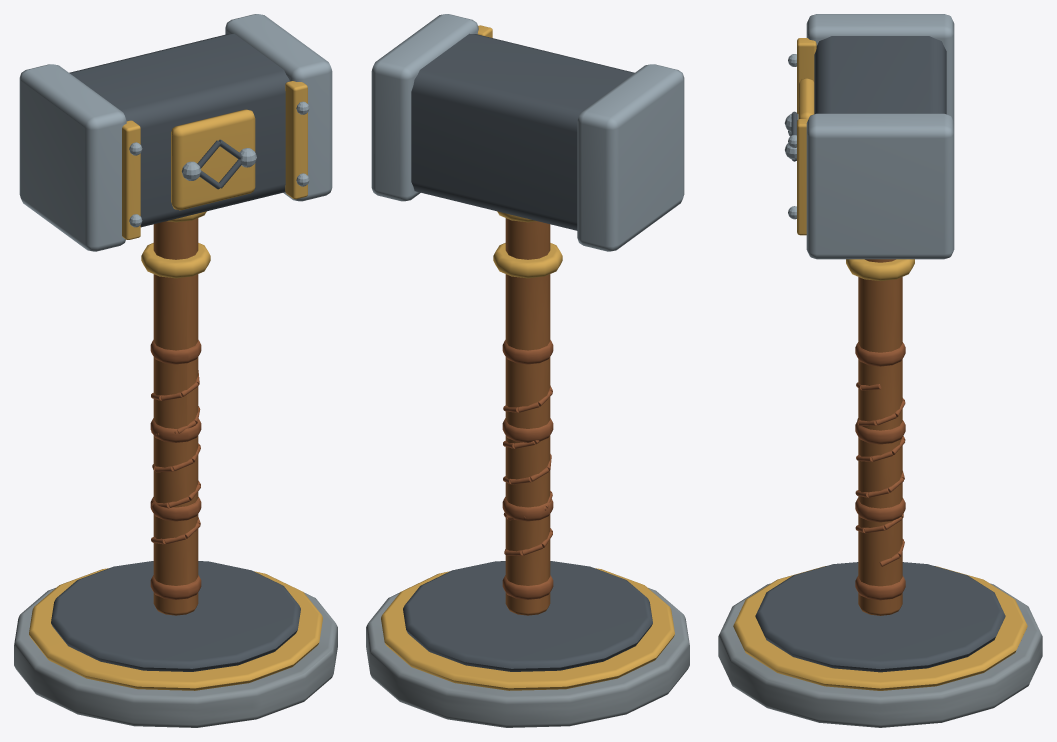
The model's file is bron-hammer.glb.
3 renders of one model, left to right at view 1: azimuth 30°, elevation 25°; view 2: azimuth 150°, elevation 25°; view 3: azimuth 270°, elevation 25°, orthographic.
Visible parts, largest first — view 1: Display / raised inset.002, Hammer / forged striking head, Hammer / steel striking face, Display / stone base.002, Grip / central shaft.001, Display / bronze rim.002, Hammer / steel striking face.001, Hammer / bronze face plate, Hammer / bronze securing strap.001, Hammer / bronze securing strap, Binding / collar.011, Binding / collar.007 (+3 smaller); view 2: Hammer / forged striking head, Display / raised inset.002, Hammer / steel striking face, Display / stone base.002, Grip / central shaft.001, Hammer / steel striking face.001, Display / bronze rim.002, Binding / collar.011, Binding / collar.007, Binding / collar.010, Binding / collar.009, Binding / collar.008; view 3: Hammer / steel striking face.001, Display / raised inset.002, Display / stone base.002, Grip / central shaft.001, Hammer / forged striking head, Display / bronze rim.002, Hammer / steel striking face, Binding / collar.011, Hammer / bronze securing strap.001, Hammer / bronze securing strap, Binding / collar.007, Binding / collar.010 (+3 smaller).
Boxes of the visible parts, x1,y1,x2,y2 form: Display / raised inset.002: (51,561,300,671); Hammer / forged striking head: (69,33,289,227); Hammer / steel striking face: (19,64,126,251); Display / stone base.002: (14,588,337,727); Grip / central shaft.001: (153,218,198,615); Display / bronze rim.002: (29,568,322,690); Hammer / steel striking face.001: (225,14,332,201); Hammer / bronze face plate: (171,109,255,210); Hammer / bronze securing strap.001: (285,81,307,199); Hammer / bronze securing strap: (122,120,140,239); Binding / collar.011: (141,243,210,278); Binding / collar.007: (150,575,201,599); Hammer / forged striking head: (411,33,634,230); Display / raised inset.002: (403,561,652,671); Hammer / steel striking face: (577,64,684,251); Display / stone base.002: (366,588,689,727); Grip / central shaft.001: (505,218,550,615); Hammer / steel striking face.001: (371,14,478,201); Display / bronze rim.002: (381,568,674,690); Binding / collar.011: (493,243,562,278); Binding / collar.007: (502,575,553,599); Binding / collar.010: (502,340,553,364); Binding / collar.009: (502,418,553,442); Binding / collar.008: (502,497,553,521); Hammer / steel striking face.001: (806,113,954,259); Display / raised inset.002: (755,562,1005,672); Display / stone base.002: (718,583,1042,727); Grip / central shaft.001: (858,259,902,615); Hammer / forged striking head: (814,36,946,114); Display / bronze rim.002: (733,566,1027,690); Hammer / steel striking face: (806,14,954,122); Binding / collar.011: (846,259,914,280); Hammer / bronze securing strap.001: (797,119,808,235); Hammer / bronze securing strap: (797,38,816,113); Binding / collar.007: (855,576,905,600); Binding / collar.010: (855,342,905,366).
Size of the model in its own units: 1.32 by 2.66 by 1.32.
6 materials, 3 textured.
